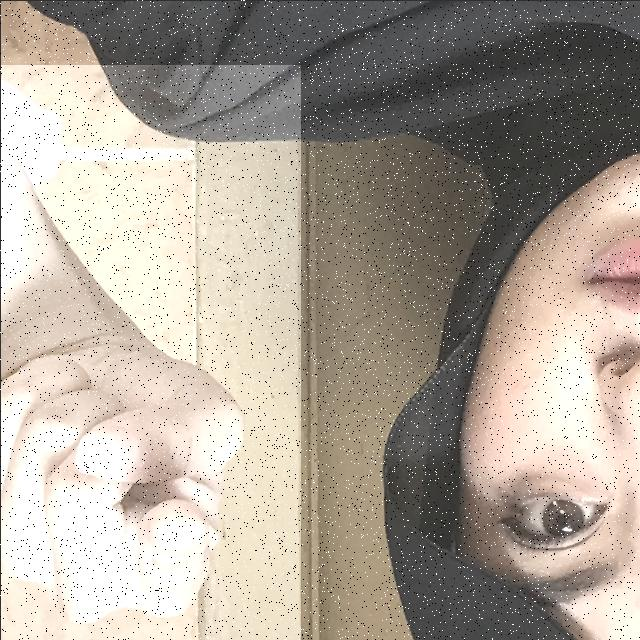kamu: (0, 64, 300, 640)
